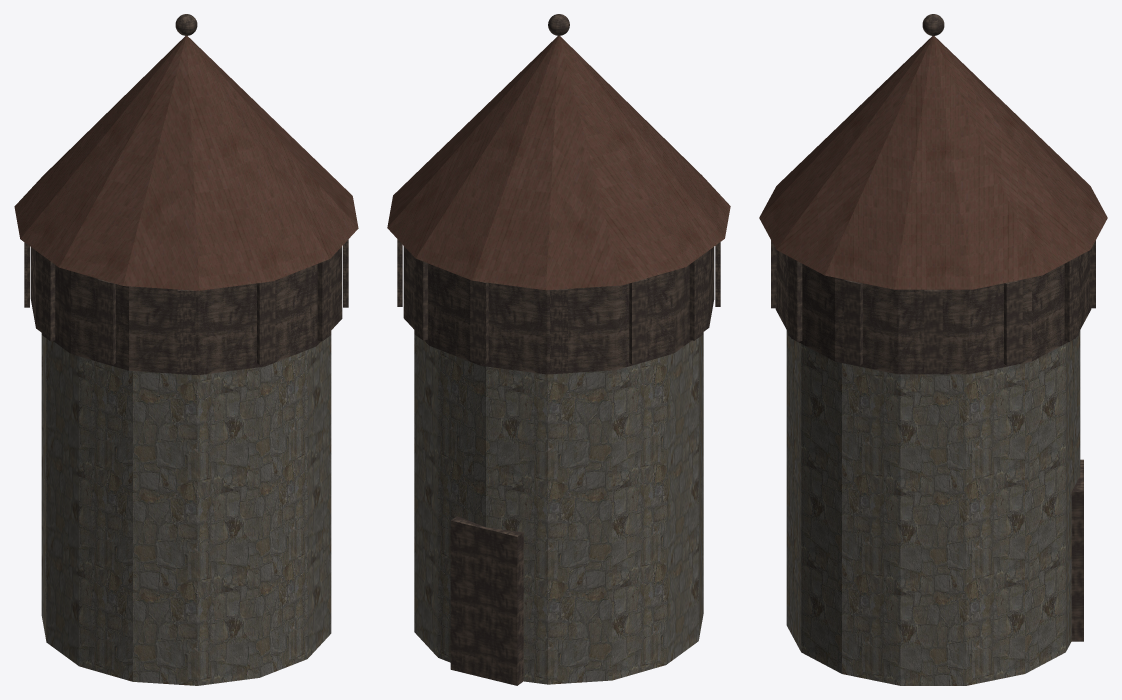
File: prop_dovecote.glb
3 views of the same model, side by side, from view 1: azimuth 30°, elevation 25°; view 2: azimuth 150°, elevation 25°; view 3: azimuth 270°, elevation 25° (orthographic).
Visible parts, largest first — view 1: prop_dovecote; view 2: prop_dovecote; view 3: prop_dovecote.
Part boxes in pixels (<box>): prop_dovecote: <box>14,14,358,685</box>; prop_dovecote: <box>387,14,730,685</box>; prop_dovecote: <box>759,14,1107,685</box>.
Size of the model in its own units: 1.85 by 3.67 by 1.9.
Materials: 3 (3 with a texture image).
